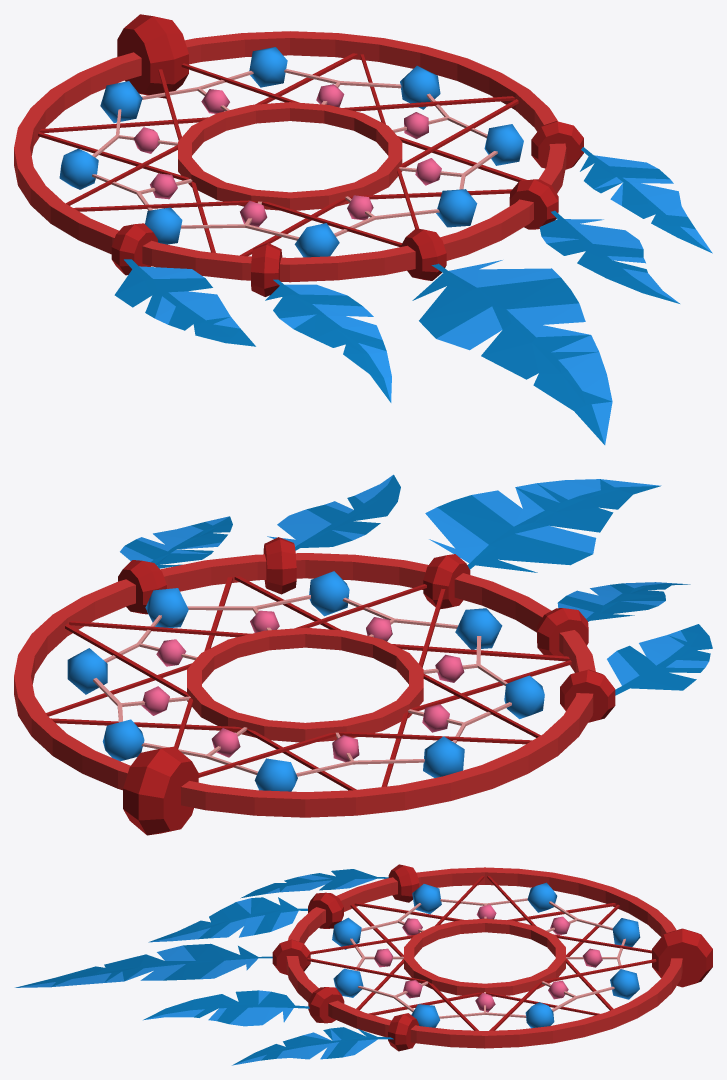
Rendered from Dreamcatcher.FBX.
3 renders of one model, top to bottom at view 1: azimuth 30°, elevation 25°; view 2: azimuth 150°, elevation 25°; view 3: azimuth 270°, elevation 25°, orthographic. The views are drawn at different scales.
Parts seen in each view (by area): view 1: Dreamcatcher; view 2: Dreamcatcher; view 3: Dreamcatcher.
Boxes of the visible parts, x1=… form: Dreamcatcher: x1=14, y1=14, x2=712, y2=444; Dreamcatcher: x1=14, y1=474, x2=712, y2=835; Dreamcatcher: x1=15, y1=864, x2=712, y2=1065.
Bounding box in the file's own units: 43.59 × 6.78 × 68.09.
